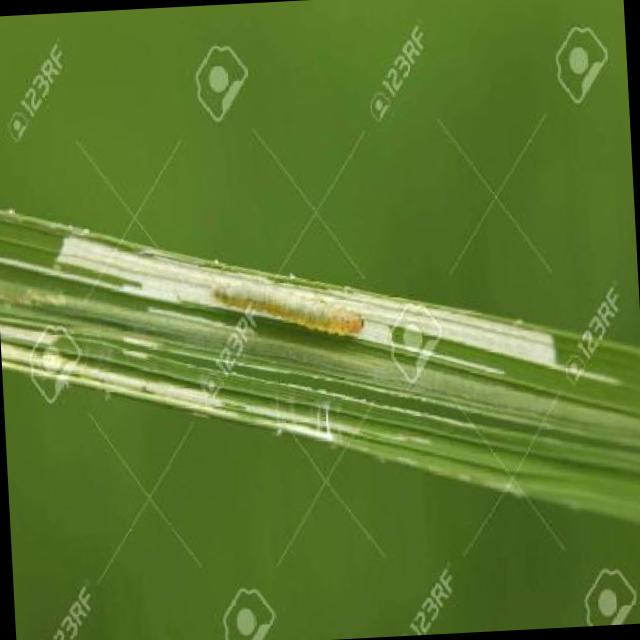leaf-folder: (218, 246, 377, 360)
